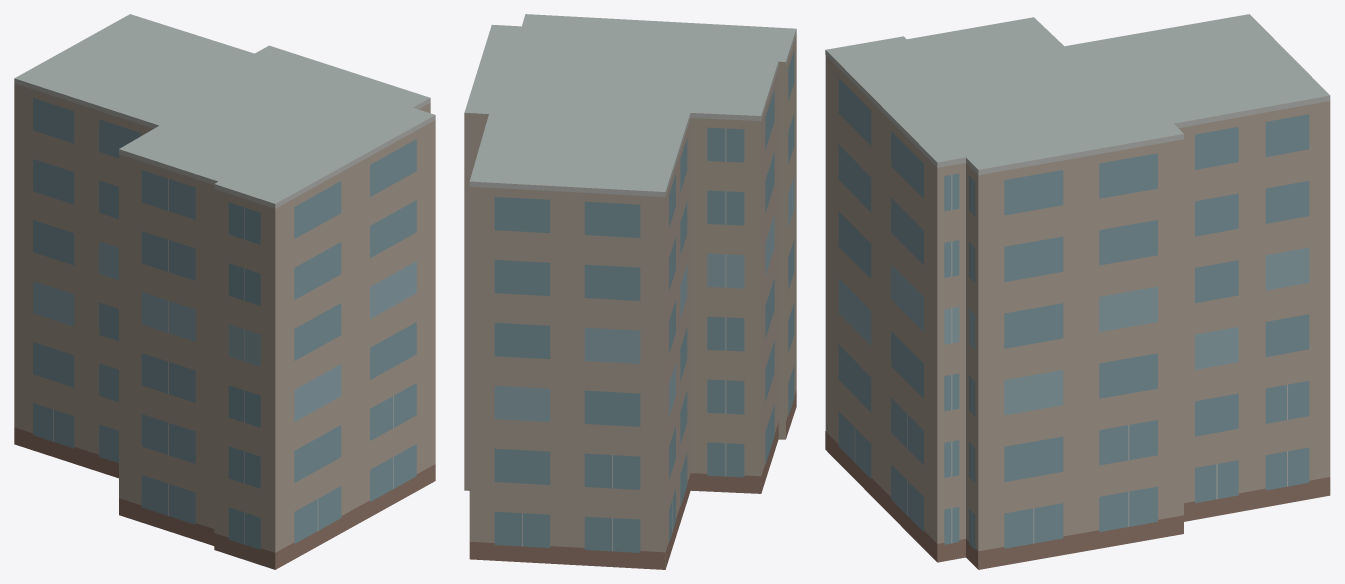
File: survey-upis-32753180.glb
3 views of the same model, side by side, from view 1: azimuth 30°, elevation 25°; view 2: azimuth 150°, elevation 25°; view 3: azimuth 270°, elevation 25° (orthographic). The views are drawn at different scales.
Visible parts, largest first — view 1: survey-upis-32753180.tmp; view 2: survey-upis-32753180.tmp; view 3: survey-upis-32753180.tmp.
Boxes of the visible parts, box(x1,y1,x2,y2) form: survey-upis-32753180.tmp: box(14, 14, 435, 569); survey-upis-32753180.tmp: box(464, 14, 796, 569); survey-upis-32753180.tmp: box(825, 14, 1330, 569).
Bounding box in the file's own units: 15.22 × 18.2 × 20.83.
